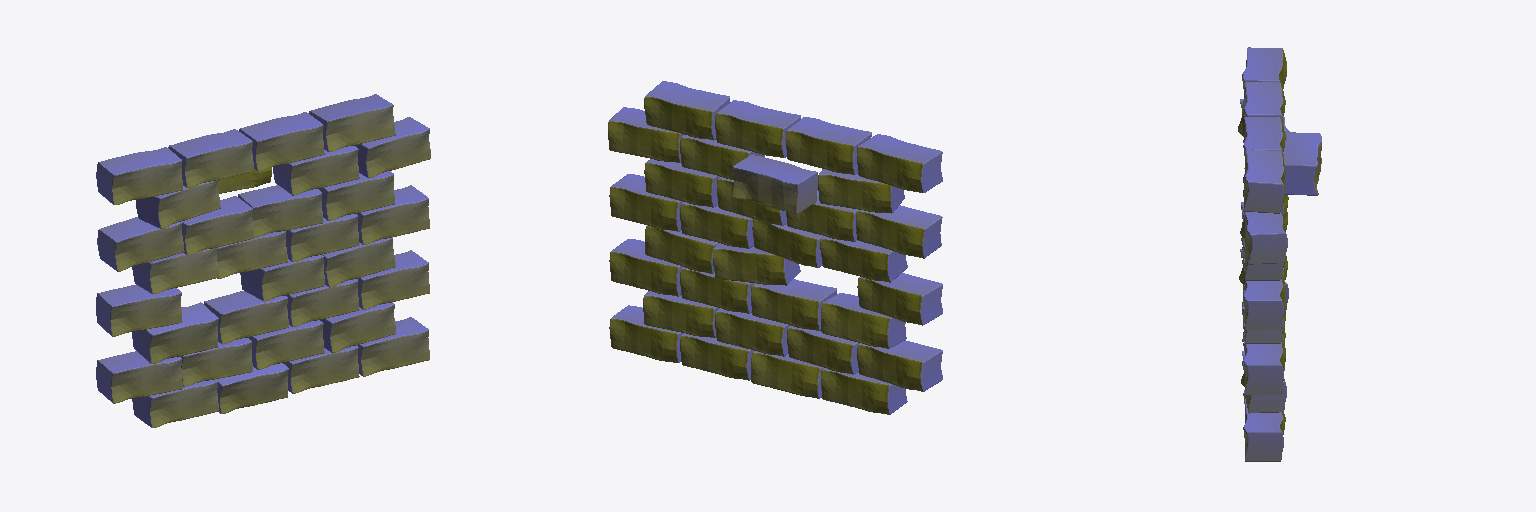
3 views of the same model, side by side, from view 1: azimuth 30°, elevation 25°; view 2: azimuth 150°, elevation 25°; view 3: azimuth 270°, elevation 25° (orthographic).
Parts seen in each view (by area): view 1: Box001, Box029, Box002, Box003, Box022, Box015, Box004, Box020, Box019, Box010, Box006, Box009 (+19 smaller); view 2: Box008, Box001, Box004, Box002, Box015, Box003, Box022, Box029, Box020, Box019, Box006, Box018 (+19 smaller); view 3: Box004, Box008, Box006, Box018, Box025, Box012, Box001, Box002, Box003, Box026, Box011, Box032.
Part boxes in pixels (bbox=[...]): Box001: bbox=[96, 147, 182, 204]; Box029: bbox=[96, 285, 182, 336]; Box002: bbox=[168, 129, 253, 187]; Box003: bbox=[239, 112, 324, 171]; Box022: bbox=[96, 351, 182, 403]; Box015: bbox=[97, 217, 184, 271]; Box004: bbox=[309, 94, 395, 151]; Box020: bbox=[132, 302, 218, 363]; Box019: bbox=[204, 291, 288, 344]; Box010: bbox=[238, 185, 322, 237]; Box006: bbox=[354, 117, 430, 177]; Box009: bbox=[182, 196, 253, 255]; Box008: bbox=[732, 154, 817, 214]; Box001: bbox=[857, 134, 942, 192]; Box004: bbox=[644, 81, 729, 140]; Box002: bbox=[785, 117, 871, 174]; Box015: bbox=[856, 205, 942, 258]; Box003: bbox=[715, 100, 800, 157]; Box022: bbox=[857, 340, 942, 391]; Box029: bbox=[857, 272, 942, 325]; Box020: bbox=[821, 293, 906, 348]; Box019: bbox=[751, 279, 836, 330]; Box006: bbox=[608, 107, 683, 162]; Box018: bbox=[609, 239, 682, 296]; Box004: bbox=[1243, 149, 1285, 213]; Box008: bbox=[1283, 132, 1321, 195]; Box006: bbox=[1240, 202, 1287, 264]; Box018: bbox=[1243, 334, 1285, 394]; Box025: bbox=[1243, 399, 1285, 461]; Box012: bbox=[1243, 269, 1285, 329]; Box001: bbox=[1242, 47, 1286, 109]; Box002: bbox=[1243, 82, 1285, 139]; Box003: bbox=[1243, 117, 1285, 172]; Box026: bbox=[1241, 351, 1286, 413]; Box011: bbox=[1243, 228, 1283, 280]; Box032: bbox=[1243, 285, 1285, 343].
Size of the model in its own units: 511 by 409 by 118.
1 materials, 1 textured.